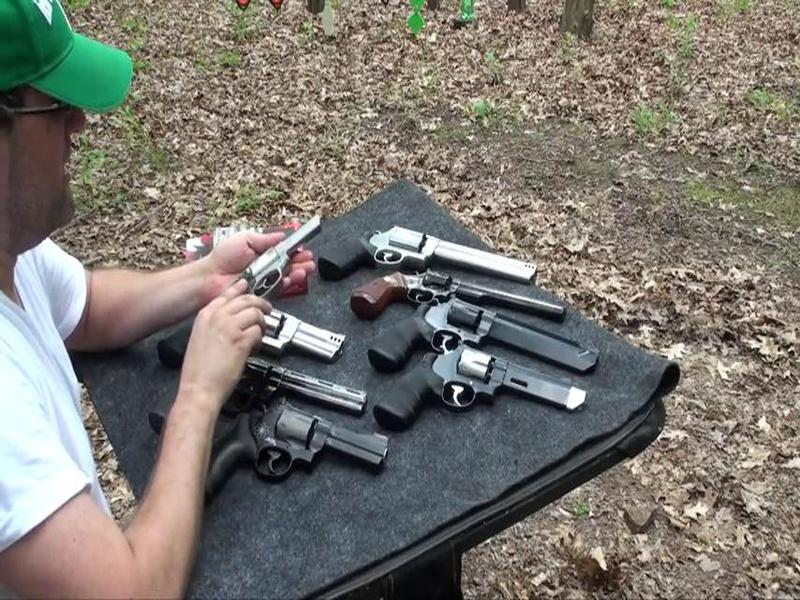Revolver: (183, 203, 327, 356)
